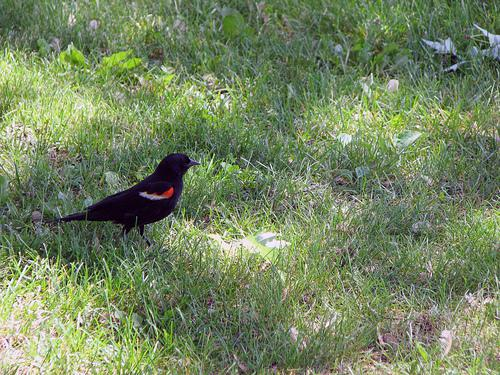010.Red_winged_Blackbird: (56, 154, 209, 247)
